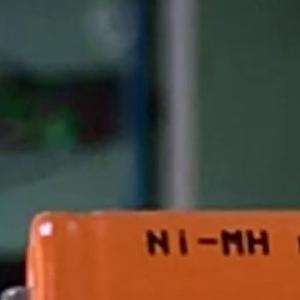keyword: (136, 220, 279, 265)
